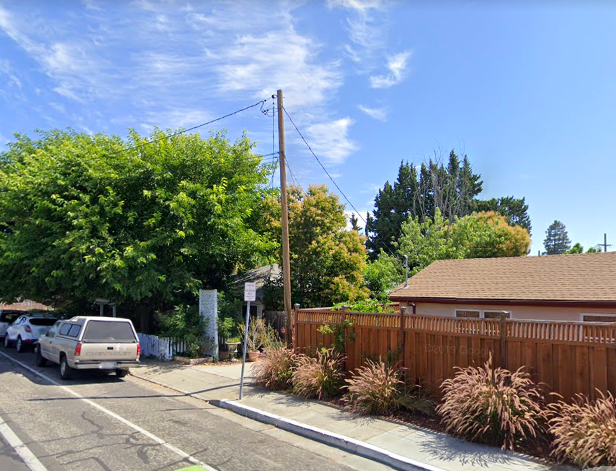tree: (1, 125, 274, 334)
utility_pole: (257, 80, 297, 162)
